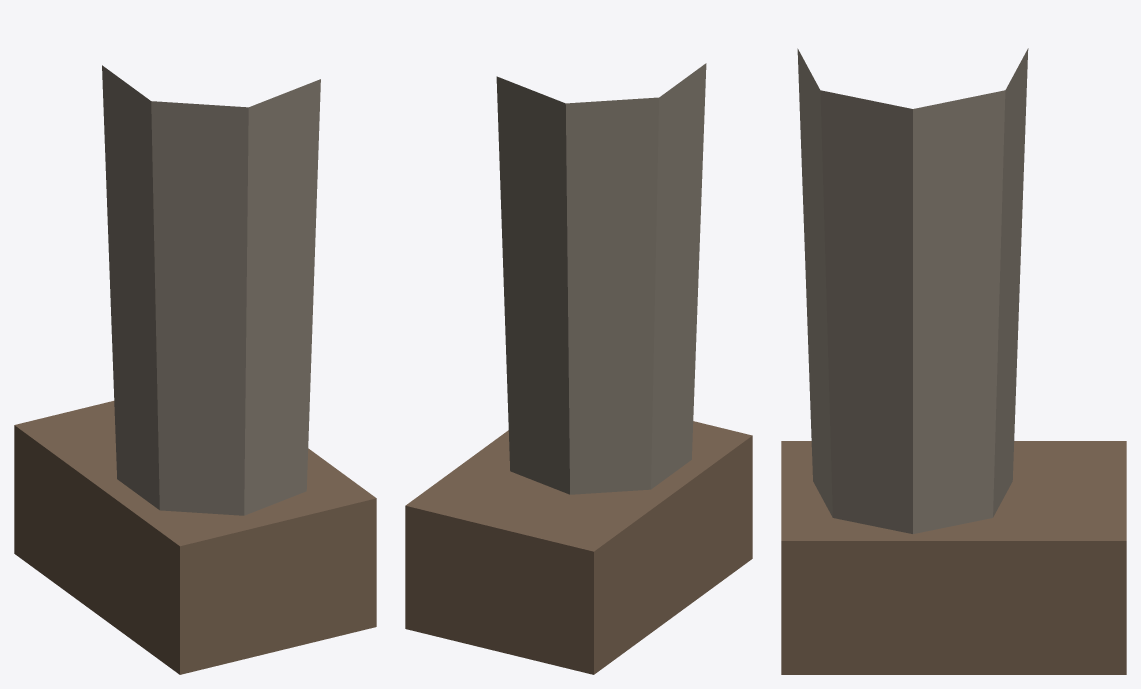
The model's file is player_leg.glb.
3 views of the same model, side by side, from view 1: azimuth 30°, elevation 25°; view 2: azimuth 150°, elevation 25°; view 3: azimuth 270°, elevation 25° (orthographic). The views are drawn at different scales.
Parts seen in each view (by area): view 1: player_leg; view 2: player_leg; view 3: player_leg.
Part boxes in pixels (x1,y1,x2,y2): player_leg: [14, 65, 376, 674]; player_leg: [405, 63, 752, 674]; player_leg: [781, 48, 1126, 674].
Bounding box in the file's own units: 0.144 × 0.38 × 0.21.
